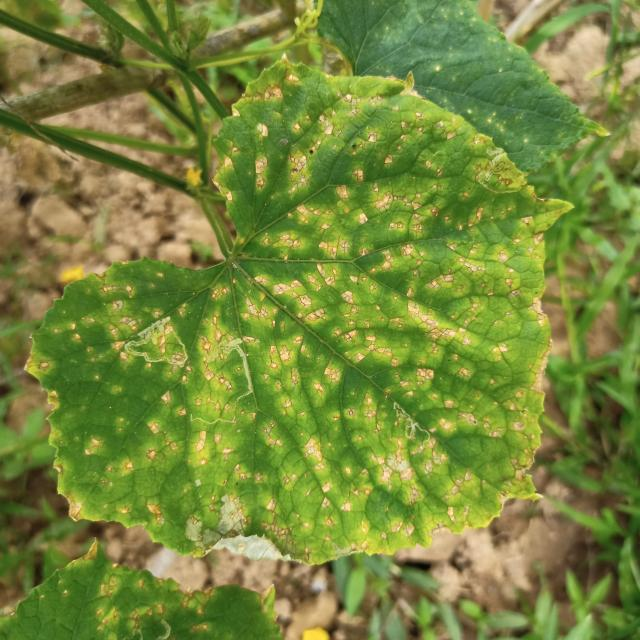disease_cucumber: (70, 94, 550, 560)
